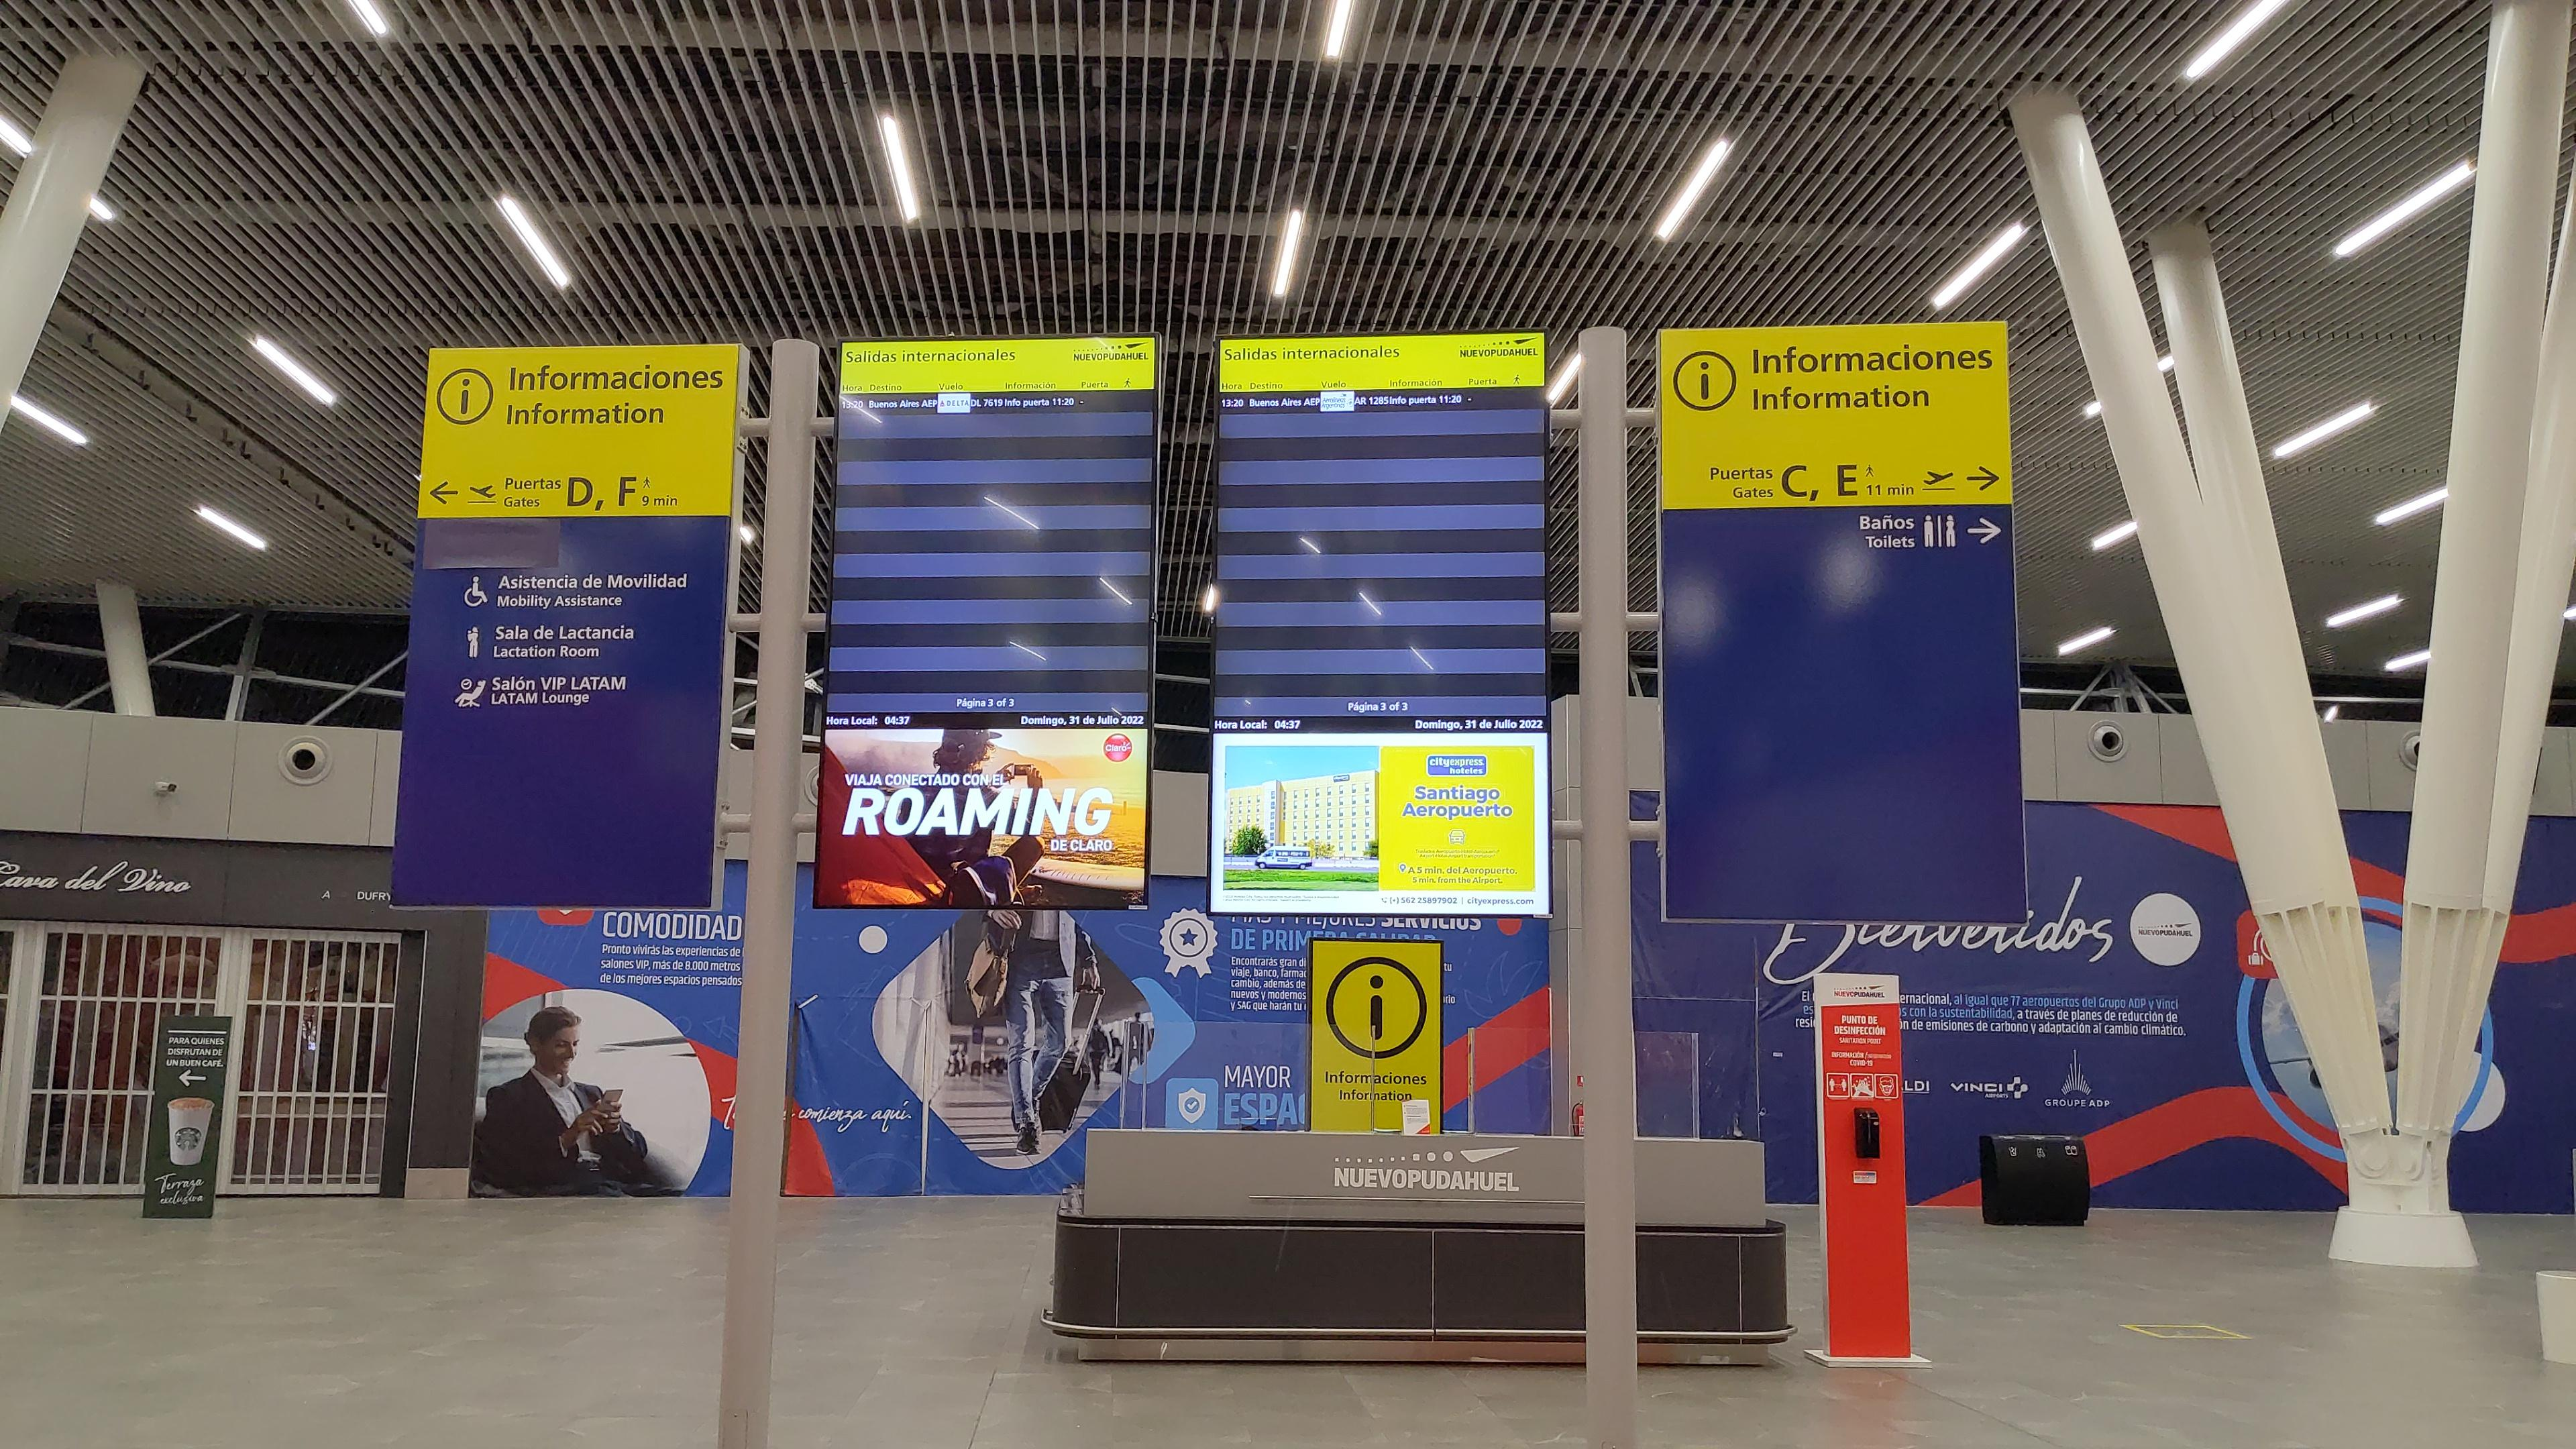airplane symbol: (1921, 469, 1955, 487), (469, 485, 497, 499)
bathrooms: (1921, 513, 1959, 548)
handicapped symbol: (462, 575, 490, 609)
thin left arrow: (428, 479, 464, 508)
thin right arrow: (1966, 464, 2001, 492), (1967, 517, 2003, 545)
